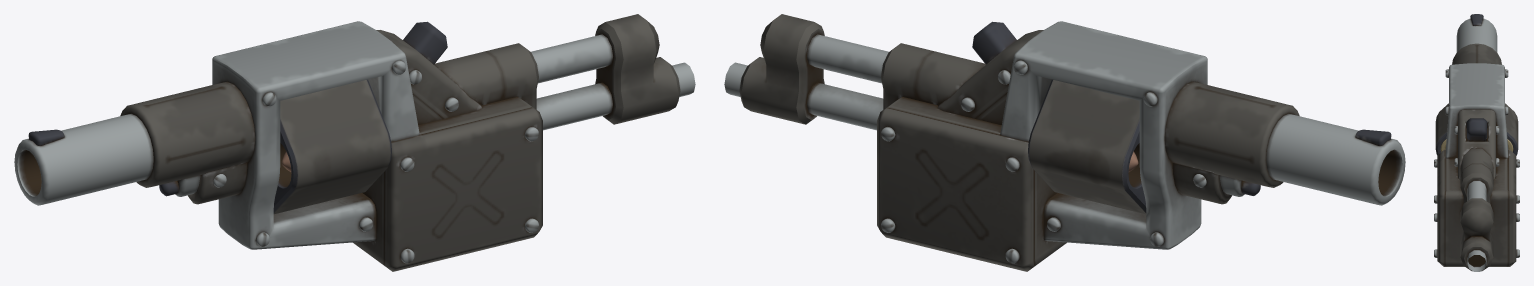
Rendered from R_lower_arm_gun_02_A1.fbx.
3 views of the same model, side by side, from view 1: azimuth 30°, elevation 25°; view 2: azimuth 150°, elevation 25°; view 3: azimuth 270°, elevation 25° (orthographic). The views are drawn at different scales.
Parts seen in each view (by area): view 1: R_lower_arm_gun_02_A1; view 2: R_lower_arm_gun_02_A1; view 3: R_lower_arm_gun_02_A1.
Boxes of the visible parts, x1,y1,x2,y2 form: R_lower_arm_gun_02_A1: (14,14,695,271); R_lower_arm_gun_02_A1: (724,14,1405,271); R_lower_arm_gun_02_A1: (1434,14,1519,271).
Size of the model in its own units: 74.19 by 22.94 by 14.17.
1 material, 1 textured.
